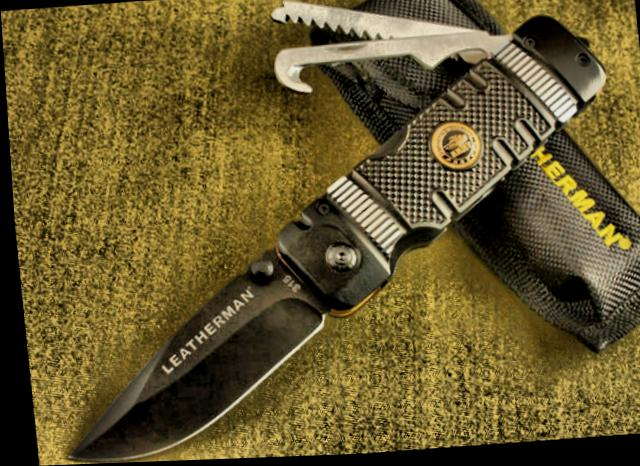knife: (32, 238, 339, 465)
